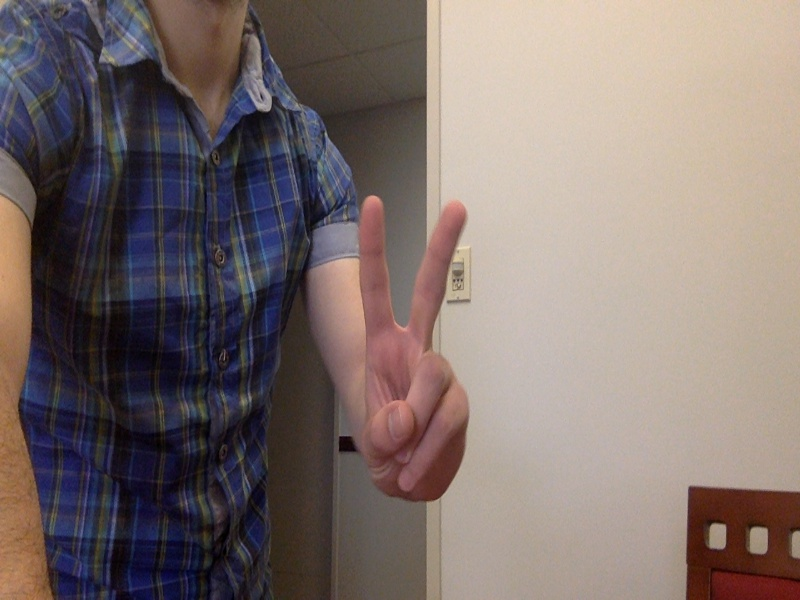2-hand: (355, 194, 474, 508)
